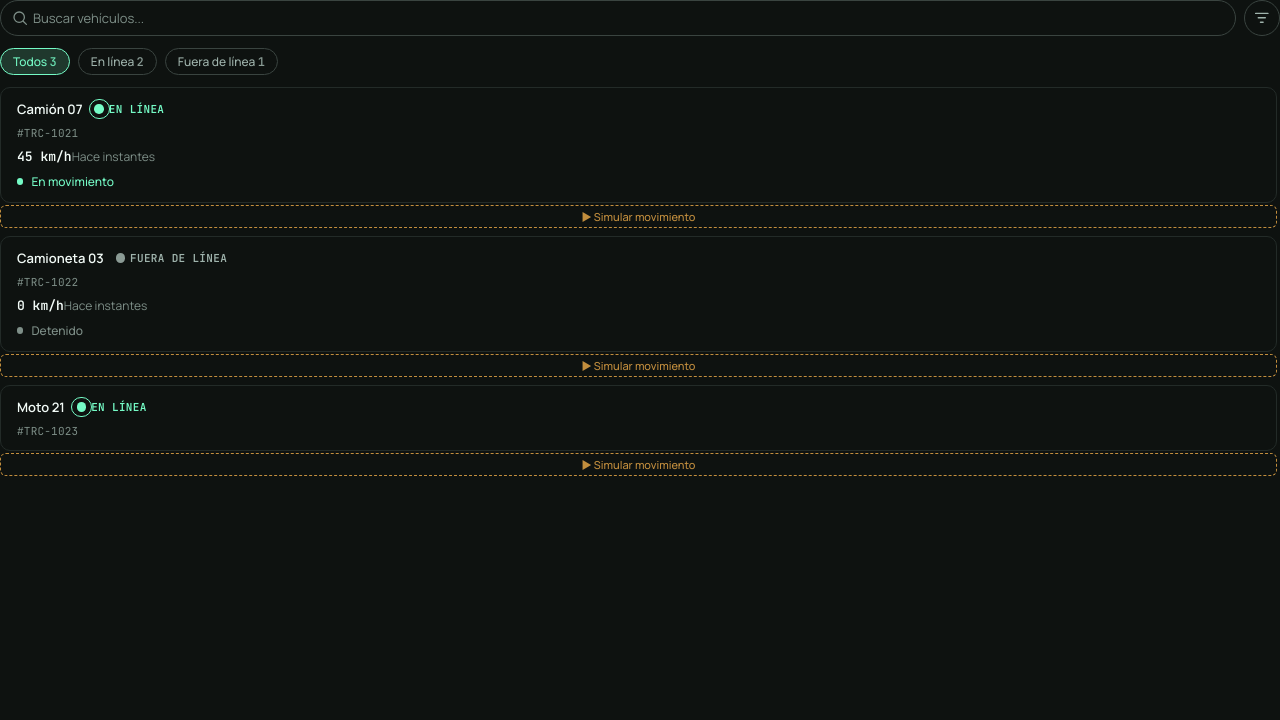
it: <DeviceListPanel /> › filtros avanzados (Assets/displayComponentFilters.png) › abre el popover con los tres grupos completos -- Movimiento y Velocidad ya no faltan (useAllPositions los habilitó)
This screenshot has width=1280, height=720.
Click the button named "Filtros avanzados" at (1262, 18), box [1244, 0, 1279, 36]
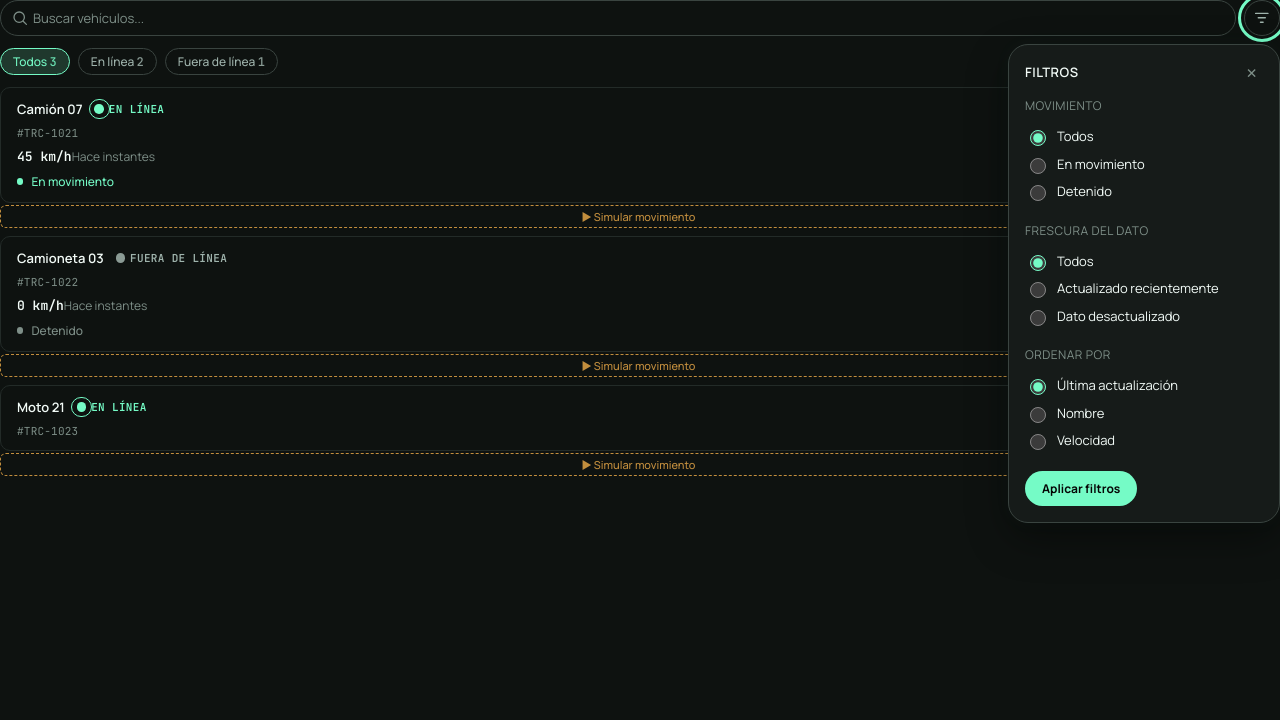
Check: the dialog named "Filtros avanzados" is shown, box [1008, 44, 1279, 522]
Check: the text "Movimiento" is shown, box [1025, 97, 1102, 115]
Check: the text "Frescura del dato" is shown, box [1025, 222, 1149, 240]
